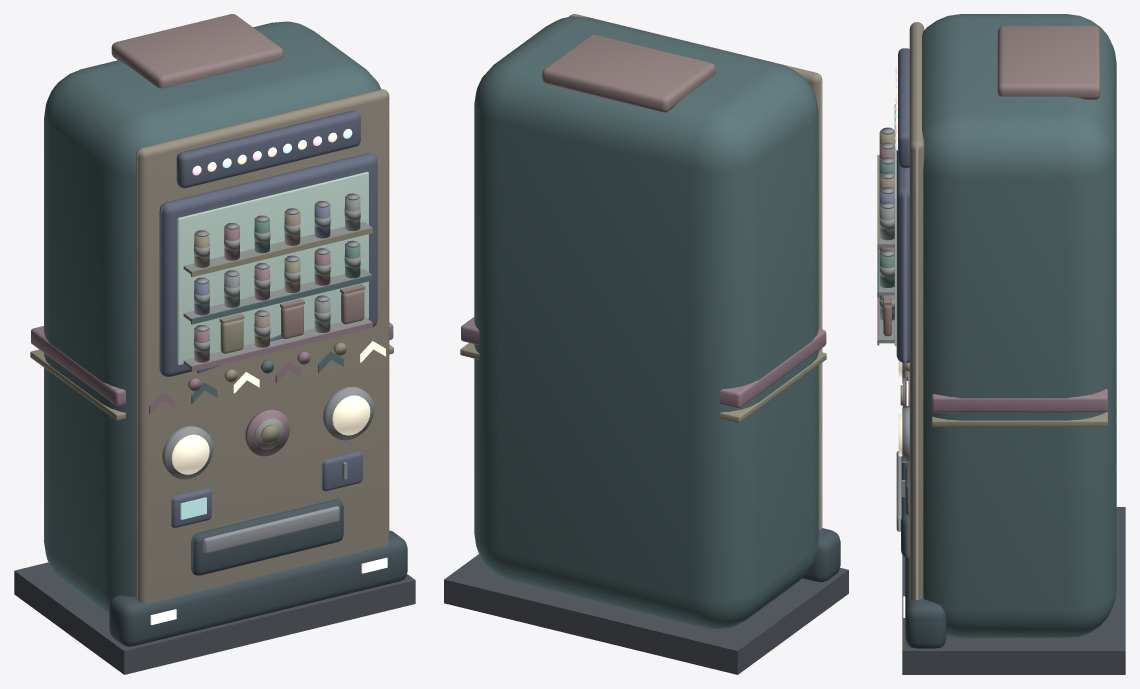
File: expendedora_expreso.glb
3 views of the same model, side by side, from view 1: azimuth 30°, elevation 25°; view 2: azimuth 150°, elevation 25°; view 3: azimuth 270°, elevation 25° (orthographic).
Visible parts, largest first — view 1: Expreso_Turquesa, Expreso_Crema, Expreso_Azul, Expreso_GrisOscuro, Expreso_Vitrina, Expreso_BaseCiruela, Expreso_Coral, Expreso, Expreso_Gris, Expreso_Blanco, Expreso_Magenta, Expreso_Amarillo (+2 smaller); view 2: Expreso_Turquesa, Expreso_BaseCiruela, Expreso_Coral, Expreso_Crema, Expreso_Magenta, Expreso_GrisOscuro, Expreso_Amarillo; view 3: Expreso_Turquesa, Expreso_BaseCiruela, Expreso_Crema, Expreso_Coral, Expreso_Azul, Expreso_Magenta, Expreso_GrisOscuro, Expreso, Expreso_Amarillo, Expreso_Gris, Expreso_Blanco, Expreso_Vitrina.
Boxes of the visible parts, box(x1,y1,x2,y2) form: Expreso_Turquesa: box(44, 21, 380, 614); Expreso_Crema: box(136, 89, 389, 604); Expreso_Azul: box(159, 110, 377, 527); Expreso_GrisOscuro: box(109, 499, 407, 646); Expreso_Vitrina: box(177, 172, 368, 365); Expreso_BaseCiruela: box(14, 562, 415, 674); Expreso_Coral: box(111, 14, 283, 88); Expreso: box(194, 196, 365, 362); Expreso_Gris: box(162, 193, 374, 553); Expreso_Blanco: box(183, 208, 371, 368); Expreso_Magenta: box(31, 265, 393, 456); Expreso_Amarillo: box(30, 227, 393, 444); Expreso_Turquesa: box(474, 16, 818, 629); Expreso_BaseCiruela: box(444, 554, 848, 674); Expreso_Coral: box(542, 34, 715, 112); Expreso_Crema: box(569, 14, 822, 529); Expreso_Magenta: box(461, 317, 826, 408); Expreso_GrisOscuro: box(802, 528, 840, 582); Expreso_Amarillo: box(460, 343, 826, 422); Expreso_Turquesa: box(877, 14, 1116, 637); Expreso_BaseCiruela: box(902, 507, 1125, 674); Expreso_Crema: box(909, 22, 924, 600); Expreso_Coral: box(997, 26, 1100, 99); Expreso_Azul: box(896, 48, 909, 515); Expreso_Magenta: box(877, 297, 1107, 412); Expreso_GrisOscuro: box(901, 456, 946, 648); Expreso: box(879, 145, 894, 336); Expreso_Amarillo: box(877, 130, 1107, 426); Expreso_Gris: box(881, 127, 909, 531); Expreso_Blanco: box(879, 143, 894, 343); Expreso_Vitrina: box(894, 104, 896, 346).
Size of the model in its own units: 1.16 by 2.06 by 0.845.
